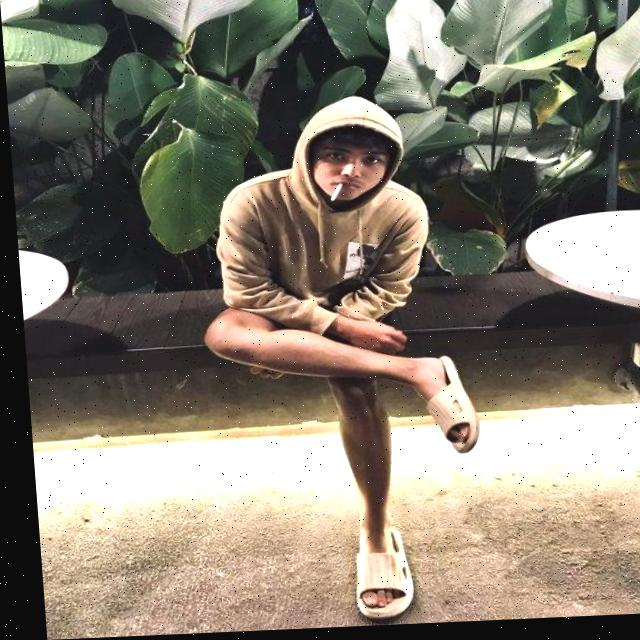cigarette: (328, 187, 344, 202)
